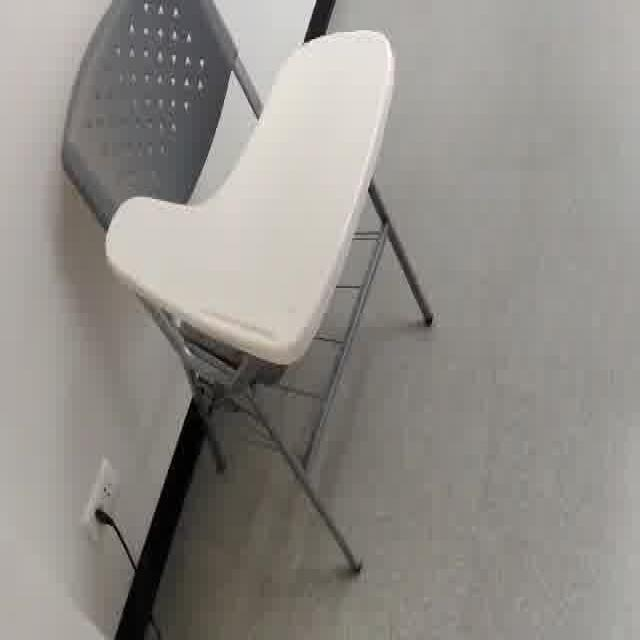chair: (47, 0, 451, 597)
